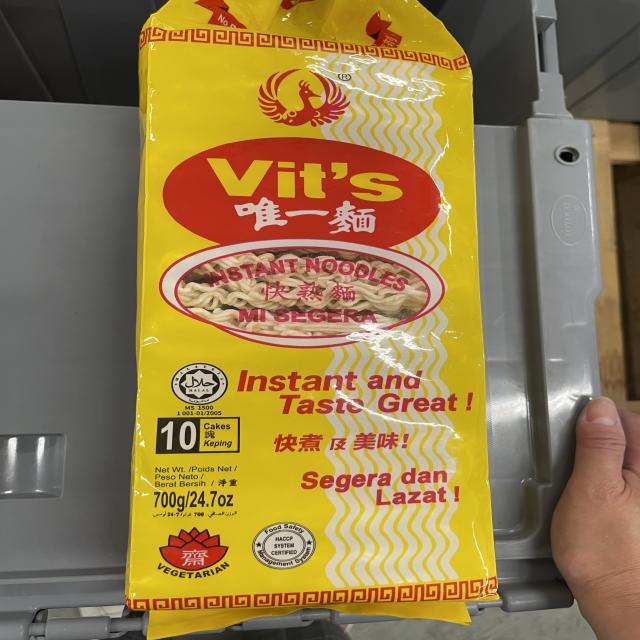object_name: (148, 11, 470, 629)
